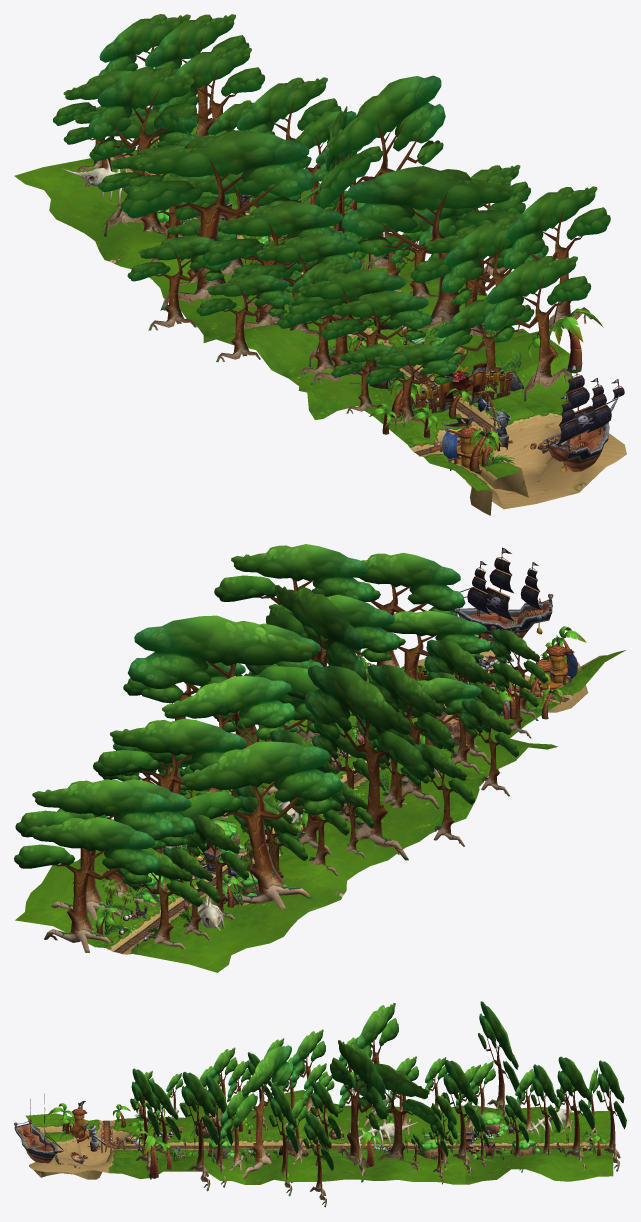
Rendered from pirate-adventure-map.glb.
3 renders of one model, top to bottom at view 1: azimuth 30°, elevation 25°; view 2: azimuth 150°, elevation 25°; view 3: azimuth 270°, elevation 25°, orthographic. The views are drawn at different scales.
Visible parts, largest first — view 1: hw_zhidao210_peijing_05_hw_peijing_01_0, hw_zhidao210_peijing_03_hw_peijing_01_0, hw_zhidao210_peijing_01_hw_peijing_01_0, hw_wandaoyou_peijing_01_hw_peijing_01_0, hw_wandaoyou_dimian_01_hw_dixing_02_0, hw_zhidao210_dimian_03_hw_dixing_02_0, hw_zhidao210_dimian_01_hw_dixing_02_0, hw_zhidao210_dimian_02_hw_dixing_02_0, hw_wandaoyou_peijing_02_hw_peijing_02_0, hw_zhidao210_peijing_02_hw_peijing_02_0; view 2: hw_zhidao210_peijing_03_hw_peijing_01_0, hw_zhidao210_peijing_01_hw_peijing_01_0, hw_zhidao210_peijing_05_hw_peijing_01_0, hw_wandaoyou_peijing_01_hw_peijing_01_0, hw_zhidao210_dimian_01_hw_dixing_02_0, hw_zhidao210_dimian_02_hw_dixing_02_0, hw_zhidao210_dimian_03_hw_dixing_02_0, hw_wandaoyou_dimian_01_hw_dixing_02_0, hw_zhidao210_peijing_02_hw_peijing_02_0, hw_wandaoyou_peijing_02_hw_peijing_02_0, hw_zhidao210_peijing_04_hw_peijing_02_0, hw_zhidao210_daolu_01_hw_dixing_0 (+1 smaller); view 3: hw_zhidao210_peijing_03_hw_peijing_01_0, hw_zhidao210_peijing_05_hw_peijing_01_0, hw_zhidao210_peijing_01_hw_peijing_01_0, hw_zhidao210_dimian_01_hw_dixing_02_0, hw_zhidao210_dimian_02_hw_dixing_02_0, hw_zhidao210_dimian_03_hw_dixing_02_0, hw_wandaoyou_peijing_01_hw_peijing_01_0, hw_wandaoyou_dimian_01_hw_dixing_02_0, hw_zhidao210_peijing_02_hw_peijing_02_0, hw_wandaoyou_peijing_02_hw_peijing_02_0, hw_zhidao210_peijing_04_hw_peijing_02_0, hw_zhidao210_peijing_06_hw_peijing_02_0 (+1 smaller).
Part boxes in pixels (bbox=[...]): hw_zhidao210_peijing_05_hw_peijing_01_0: bbox=[196, 166, 610, 413]; hw_zhidao210_peijing_03_hw_peijing_01_0: bbox=[121, 75, 530, 330]; hw_zhidao210_peijing_01_hw_peijing_01_0: bbox=[53, 14, 275, 238]; hw_wandaoyou_peijing_01_hw_peijing_01_0: bbox=[365, 256, 624, 472]; hw_wandaoyou_dimian_01_hw_dixing_02_0: bbox=[370, 351, 626, 515]; hw_zhidao210_dimian_03_hw_dixing_02_0: bbox=[205, 283, 566, 419]; hw_zhidao210_dimian_01_hw_dixing_02_0: bbox=[14, 126, 320, 260]; hw_zhidao210_dimian_02_hw_dixing_02_0: bbox=[109, 202, 439, 342]; hw_wandaoyou_peijing_02_hw_peijing_02_0: bbox=[434, 384, 513, 474]; hw_zhidao210_peijing_02_hw_peijing_02_0: bbox=[60, 158, 250, 234]; hw_zhidao210_peijing_03_hw_peijing_01_0: bbox=[93, 615, 474, 876]; hw_zhidao210_peijing_01_hw_peijing_01_0: bbox=[14, 741, 342, 952]; hw_zhidao210_peijing_05_hw_peijing_01_0: bbox=[214, 544, 538, 808]; hw_wandaoyou_peijing_01_hw_peijing_01_0: bbox=[354, 547, 586, 720]; hw_zhidao210_dimian_01_hw_dixing_02_0: bbox=[15, 850, 341, 972]; hw_zhidao210_dimian_02_hw_dixing_02_0: bbox=[162, 783, 465, 896]; hw_zhidao210_dimian_03_hw_dixing_02_0: bbox=[259, 710, 557, 818]; hw_wandaoyou_dimian_01_hw_dixing_02_0: bbox=[367, 634, 625, 728]; hw_zhidao210_peijing_02_hw_peijing_02_0: bbox=[133, 848, 259, 946]; hw_wandaoyou_peijing_02_hw_peijing_02_0: bbox=[458, 635, 577, 697]; hw_zhidao210_peijing_04_hw_peijing_02_0: bbox=[205, 801, 346, 868]; hw_zhidao210_daolu_01_hw_dixing_0: bbox=[114, 872, 228, 953]; hw_zhidao210_peijing_03_hw_peijing_01_0: bbox=[303, 1003, 480, 1207]; hw_zhidao210_peijing_05_hw_peijing_01_0: bbox=[166, 1029, 328, 1196]; hw_zhidao210_peijing_01_hw_peijing_01_0: bbox=[455, 1001, 626, 1172]; hw_zhidao210_dimian_01_hw_dixing_02_0: bbox=[465, 1105, 613, 1184]; hw_zhidao210_dimian_02_hw_dixing_02_0: bbox=[317, 1103, 465, 1184]; hw_zhidao210_dimian_03_hw_dixing_02_0: bbox=[169, 1090, 317, 1184]; hw_wandaoyou_peijing_01_hw_peijing_01_0: bbox=[14, 1068, 180, 1179]; hw_wandaoyou_dimian_01_hw_dixing_02_0: bbox=[25, 1113, 169, 1179]; hw_zhidao210_peijing_02_hw_peijing_02_0: bbox=[465, 1105, 580, 1158]; hw_wandaoyou_peijing_02_hw_peijing_02_0: bbox=[65, 1101, 169, 1152]; hw_zhidao210_peijing_04_hw_peijing_02_0: bbox=[329, 1119, 460, 1159]; hw_zhidao210_peijing_06_hw_peijing_02_0: bbox=[195, 1113, 308, 1158].
Bounding box in the file's own units: 41661 × 23398 × 86937.
5 materials, 5 textured.
